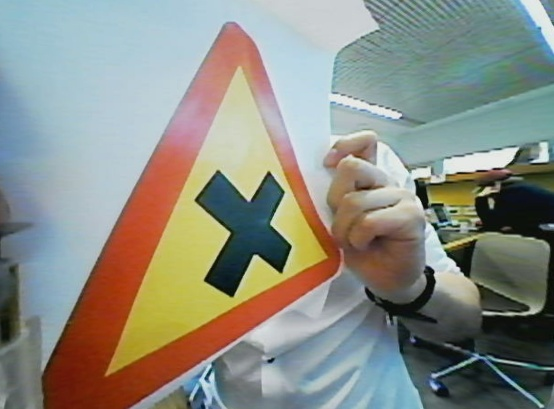junction: (42, 25, 326, 409)
